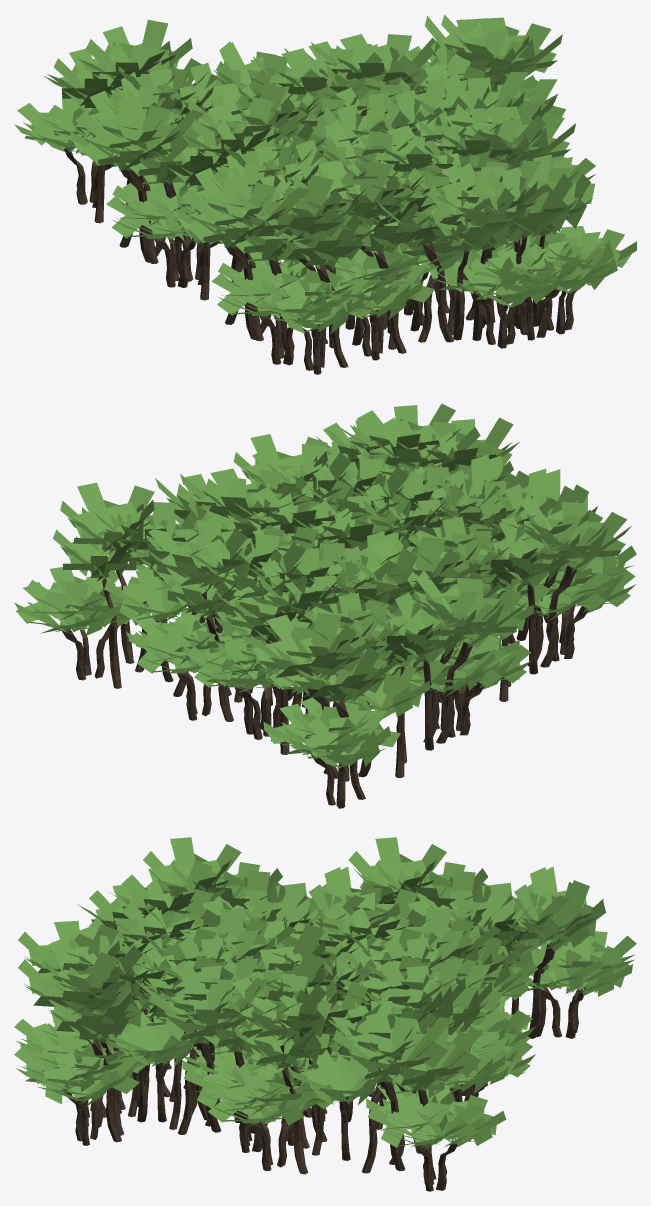
File: jungle_heavy.glb
3 views of the same model, one above another, from view 1: azimuth 30°, elevation 25°; view 2: azimuth 150°, elevation 25°; view 3: azimuth 270°, elevation 25° (orthographic). The views are drawn at different scales.
Visible parts, largest first — view 1: jungle_heavy; view 2: jungle_heavy; view 3: jungle_heavy.
Boxes of the visible parts, x1,y1,x2,y2 form: jungle_heavy: (14,14,636,374); jungle_heavy: (14,403,636,808); jungle_heavy: (14,837,636,1191).
Bounding box in the file's own units: 13.7 × 4.5 × 15.74.
352 materials, 176 textured.
